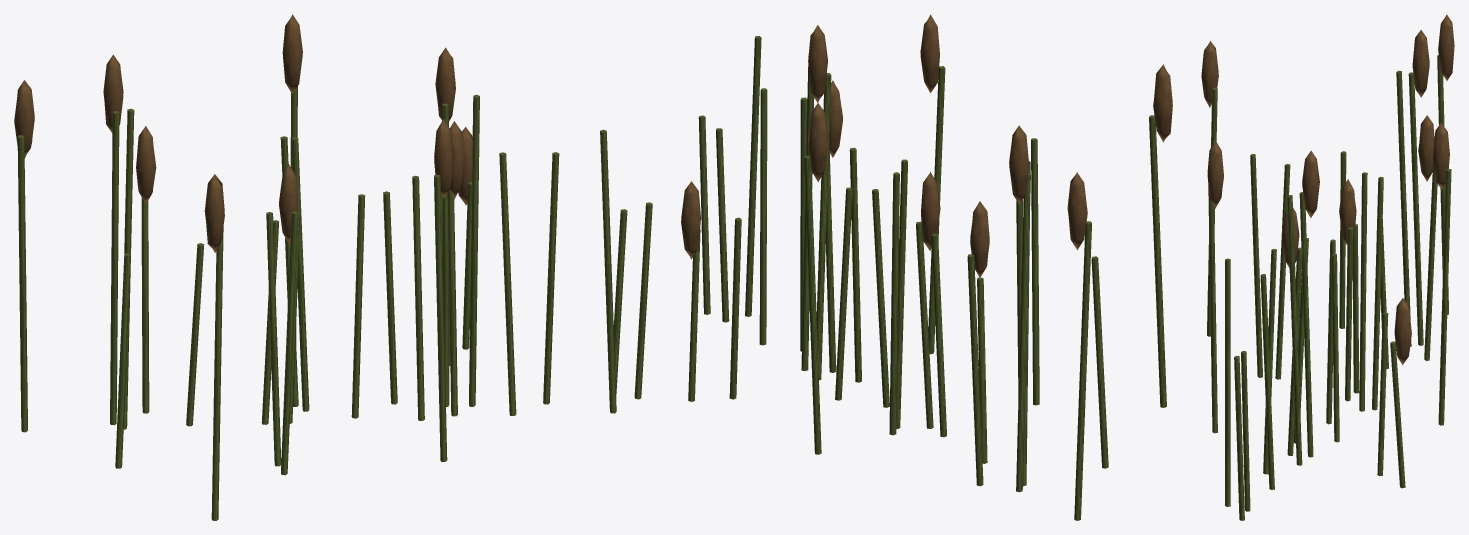
The model's file is reeds_v4.obj.
3 renders of one model, left to right at view 1: azimuth 30°, elevation 25°; view 2: azimuth 150°, elevation 25°; view 3: azimuth 270°, elevation 25°, orthographic. The views are drawn at different scales.
Parts seen in each view (by area): view 1: reeds_v4; view 2: reeds_v4; view 3: reeds_v4.
Boxes of the visible parts, box(x1,y1,x2,y2) form: reeds_v4: box(14, 14, 652, 520); reeds_v4: box(681, 14, 1172, 520); reeds_v4: box(1201, 14, 1454, 520).
Size of the model in its own units: 4.15 by 2.84 by 2.07.
2 materials, 2 textured.
